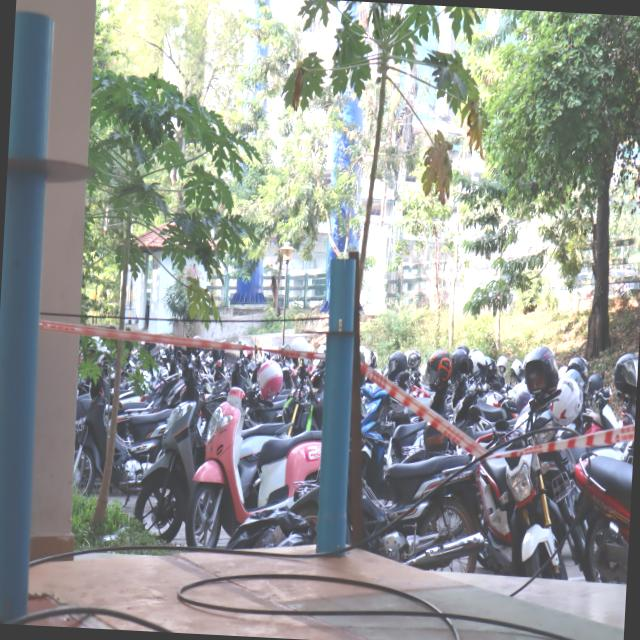pole: (308, 244, 378, 388)
